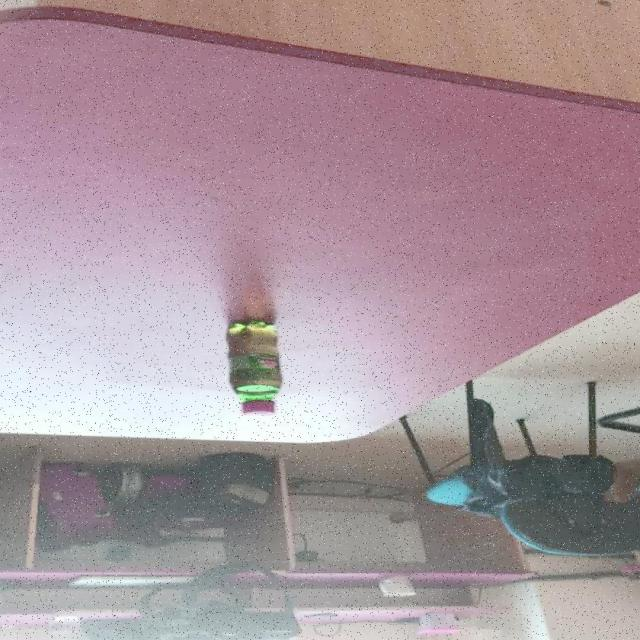Guarana: (223, 320, 283, 414)
